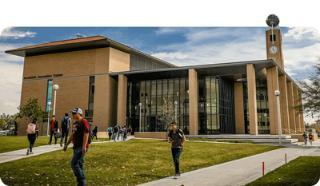person - v3 P: (64, 108, 89, 185), (168, 123, 185, 178), (60, 113, 71, 146), (27, 119, 36, 154), (48, 115, 58, 145), (92, 127, 97, 140), (303, 132, 307, 145), (108, 127, 112, 140), (308, 133, 312, 143)
